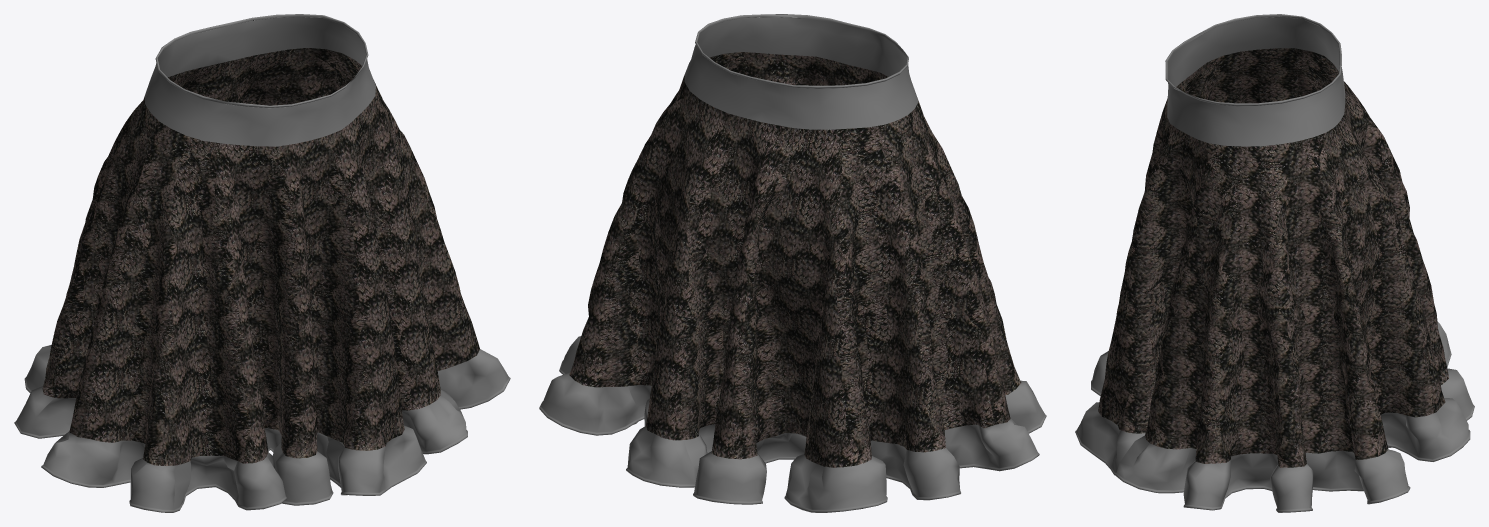
File: Robe1-2.glb
3 renders of one model, left to right at view 1: azimuth 30°, elevation 25°; view 2: azimuth 150°, elevation 25°; view 3: azimuth 270°, elevation 25°, orthographic. The views are drawn at different scales.
Parts seen in each view (by area): view 1: Skirt.002; view 2: Skirt.002; view 3: Skirt.002.
Part boxes in pixels (x1,y1,x2,y2): Skirt.002: (14,14,510,512); Skirt.002: (539,14,1046,512); Skirt.002: (1075,14,1474,512).
Bounding box in the file's own units: 0.8204 × 0.6952 × 0.6475.
Materials: 2 (1 with a texture image).
